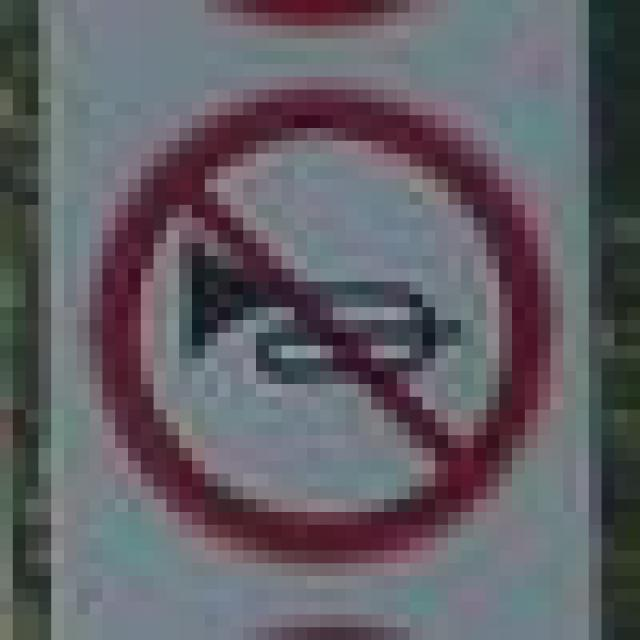HORN_PROHIBITED: (77, 77, 550, 563)
